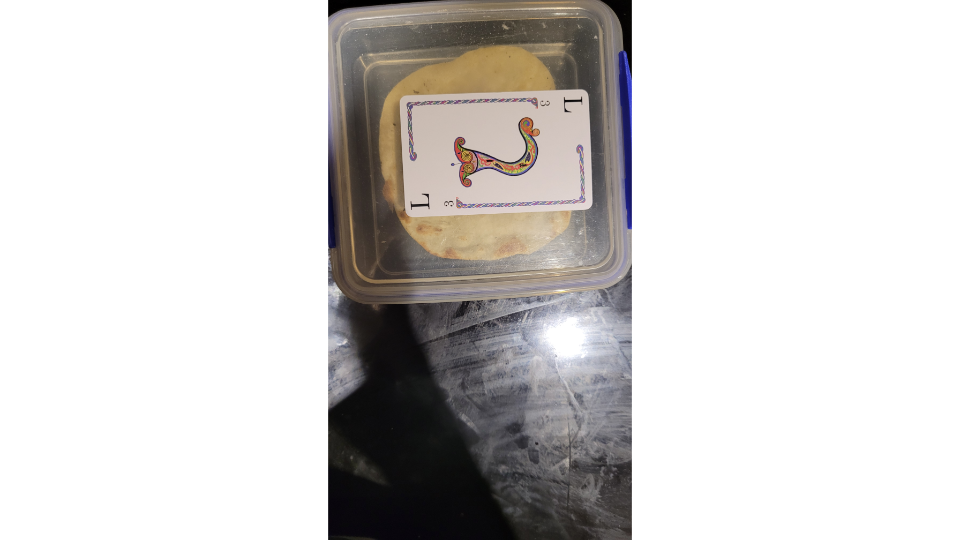L: (397, 87, 596, 219)
